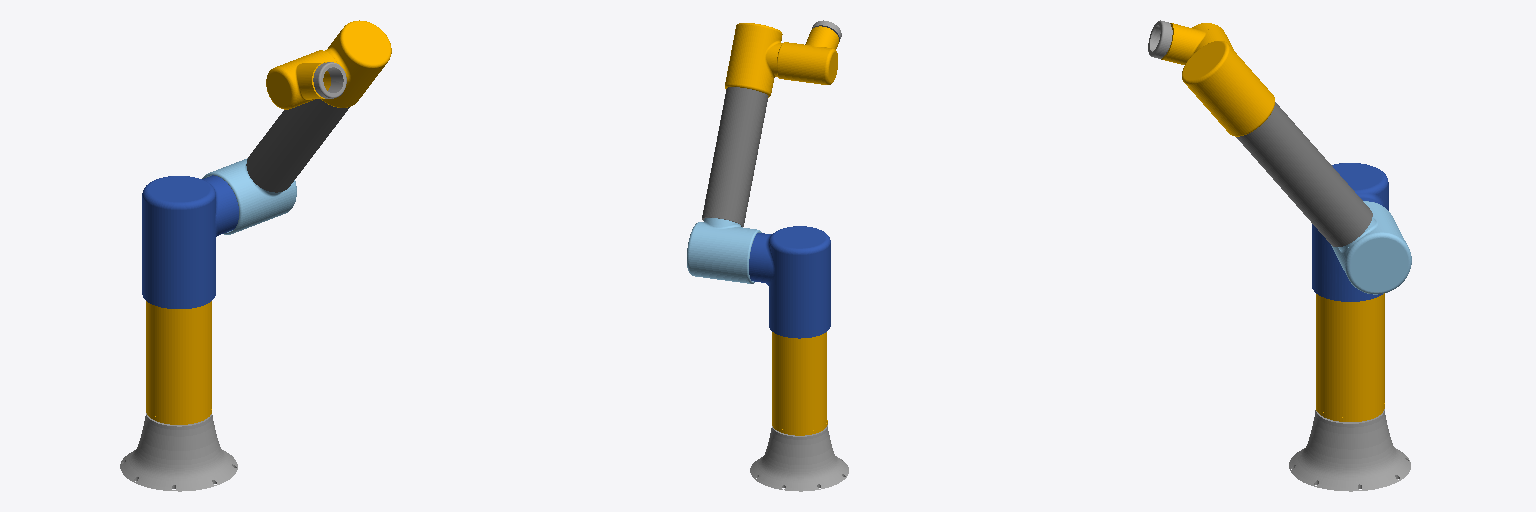
The robot description file, URDF, robot "Smart_Robots":
<robot name="Smart_Robots">
<link name="part_1">
<visual>
<origin xyz="-0.026505183829739500934 0.020985862326983767412 -0.0011190139842017013394" rpy="7.358325780984980669e-17 -1.668282557532609041e-15 0.21446911751457217732" />
<geometry>
<mesh filename="package://Smart_Robots/Smart_Robots/part_1.stl"/>
</geometry>
<material name="part_1_material">
<color rgba="0.64705882352941179736 0.64705882352941179736 0.64705882352941179736 1.0"/>
</material>
</visual>
<collision>
<origin xyz="-0.026505183829739500934 0.020985862326983767412 -0.0011190139842017013394" rpy="7.358325780984980669e-17 -1.668282557532609041e-15 0.21446911751457217732" />
<geometry>
<mesh filename="package://Smart_Robots/Smart_Robots/part_1.stl"/>
</geometry>
</collision>
<inertial>
<origin xyz="0 0 0" rpy="0 0 0"/>
<mass value="2556.34" />
<inertia ixx="0.356" ixy="0"  ixz="0" iyy="0.356" iyz="0" izz="0.356" />
</inertial>
</link>

<link name="assembly_1">
<visual>
<origin xyz="-0.00050800000000000150591 6.9388939039072283776e-18 0.053286000000000000032" rpy="3.141592653589793116 -0 -2.1144347211128180631e-17" />
<geometry>
<mesh filename="package://Smart_Robots/Smart_Robots/part_6.stl"/>
</geometry>
<material name="part_6_material">
<color rgba="0.2313725490196078538 0.38039215686274507888 0.7058823529411765163 1.0"/>
</material>
</visual>
<collision>
<origin xyz="-0.00050800000000000150591 6.9388939039072283776e-18 0.053286000000000000032" rpy="3.141592653589793116 -0 -2.1144347211128180631e-17" />
<geometry>
<mesh filename="package://Smart_Robots/Smart_Robots/part_6.stl"/>
</geometry>
</collision>
<visual>
<origin xyz="-3.4694469519536141888e-18 -3.4694469519536141888e-18 0.090623999999999996224" rpy="-3.141592653589793116 -0 -2.1144347211128180631e-17" />
<geometry>
<mesh filename="package://Smart_Robots/Smart_Robots/part_5.stl"/>
</geometry>
<material name="part_5_material">
<color rgba="0.98039215686274505668 0.71372549019607844922 0.0039215686274509803377 1.0"/>
</material>
</visual>
<collision>
<origin xyz="-3.4694469519536141888e-18 -3.4694469519536141888e-18 0.090623999999999996224" rpy="-3.141592653589793116 -0 -2.1144347211128180631e-17" />
<geometry>
<mesh filename="package://Smart_Robots/Smart_Robots/part_5.stl"/>
</geometry>
</collision>
<inertial>
<origin xyz="0 0 0" rpy="0 0 0"/>
<mass value="36.34" />
<inertia ixx="0.3456" ixy="0"  ixz="0" iyy="0.3445" iyz="0" izz="0.4567" />
</inertial>
</link>

<link name="assembly_1_2">
<visual>
<origin xyz="-1.3877787807814456755e-17 0.32484817418098399511 0.076221861471136576061" rpy="1.570796326794896558 1.570796326794896558 0" />
<geometry>
<mesh filename="package://Smart_Robots/Smart_Robots/part_7.stl"/>
</geometry>
<material name="part_7_material">
<color rgba="0.61568627450980395466 0.81176470588235294379 0.92941176470588238168 1.0"/>
</material>
</visual>
<collision>
<origin xyz="-1.3877787807814456755e-17 0.32484817418098399511 0.076221861471136576061" rpy="1.570796326794896558 1.570796326794896558 0" />
<geometry>
<mesh filename="package://Smart_Robots/Smart_Robots/part_7.stl"/>
</geometry>
</collision>
<visual>
<origin xyz="-0.29837389590963803165 -0.51482094345683804271 0.076221861471136242994" rpy="-1.5707963267948950037 1.570796326794896558 0" />
<geometry>
<mesh filename="package://Smart_Robots/Smart_Robots/part_8.stl"/>
</geometry>
<material name="part_8_material">
<color rgba="0.49803921568627451677 0.49803921568627451677 0.49803921568627451677 1.0"/>
</material>
</visual>
<collision>
<origin xyz="-0.29837389590963803165 -0.51482094345683804271 0.076221861471136242994" rpy="-1.5707963267948950037 1.570796326794896558 0" />
<geometry>
<mesh filename="package://Smart_Robots/Smart_Robots/part_8.stl"/>
</geometry>
</collision>
<visual>
<origin xyz="0.023781313250870836362 0.33994335485457938262 0.076221861471135965438" rpy="1.5707963267948983344 1.570796326794896558 0" />
<geometry>
<mesh filename="package://Smart_Robots/Smart_Robots/part_9.stl"/>
</geometry>
<material name="part_9_material">
<color rgba="0.98039215686274505668 0.71372549019607844922 0.0039215686274509803377 1.0"/>
</material>
</visual>
<collision>
<origin xyz="0.023781313250870836362 0.33994335485457938262 0.076221861471135965438" rpy="1.5707963267948983344 1.570796326794896558 0" />
<geometry>
<mesh filename="package://Smart_Robots/Smart_Robots/part_9.stl"/>
</geometry>
</collision>
<inertial>
<origin xyz="0 0 0" rpy="0 0 0"/>
<mass value="29.78" />
<inertia ixx="0.3674" ixy="0"  ixz="0" iyy="0.3458" iyz="0" izz="0.4789" />
</inertial>
</link>

<link name="part_10">
<visual>
<origin xyz="0.2839944415269319844 0.50605307554357992217 0.093350872256403177873" rpy="1.570796326794896558 1.570796326794896558 0" />
<geometry>
<mesh filename="package://Smart_Robots/Smart_Robots/part_10.stl"/>
</geometry>
<material name="part_10_material">
<color rgba="0.98039215686274505668 0.71372549019607844922 0.0039215686274509803377 1.0"/>
</material>
</visual>
<collision>
<origin xyz="0.2839944415269319844 0.50605307554357992217 0.093350872256403177873" rpy="1.570796326794896558 1.570796326794896558 0" />
<geometry>
<mesh filename="package://Smart_Robots/Smart_Robots/part_10.stl"/>
</geometry>
</collision>
<inertial>
<origin xyz="0 0 0" rpy="0 0 0"/>
<mass value="19.78" />
<inertia ixx="0.3674" ixy="0"  ixz="0" iyy="0.3458" iyz="0" izz="0.4789" />
</inertial>
</link>

<link name="part_11">
<visual>
<origin xyz="-0.041948340833187096333 0.50709062814712513312 0.33014797984504695716" rpy="1.570796326794896558 -4.4541348134564477247e-18 -3.034476982480160396e-18" />
<geometry>
<mesh filename="package://Smart_Robots/Smart_Robots/part_11.stl"/>
</geometry>
<material name="part_11_material">
<color rgba="0.64705882352941179736 0.64705882352941179736 0.64705882352941179736 1.0"/>
</material>
</visual>
<collision>
<origin xyz="-0.041948340833187096333 0.50709062814712513312 0.33014797984504695716" rpy="1.570796326794896558 -4.4541348134564477247e-18 -3.034476982480160396e-18" />
<geometry>
<mesh filename="package://Smart_Robots/Smart_Robots/part_11.stl"/>
</geometry>
</collision>
<inertial>
<origin xyz="0 0 0" rpy="0 0 0"/>
<mass value="17.78" />
<inertia ixx="0.3674" ixy="0"  ixz="0" iyy="0.3458" iyz="0" izz="0.4789" />
</inertial>
</link>

<joint name="hand" type="revolute">
<origin xyz="-0.048185538318115228584 -0.0010375526035452109497 0.051402531423216102358" rpy="-6.1719555739207486655e-17 1.5707963267948961139 0" />
<parent link="part_10" />
<child link="part_11" />
<axis xyz="0 0 1"/>
<limit effort="1" velocity="20" lower="0" upper="6.283185307179586232"/>
<joint_properties friction="0.0"/>
</joint>

<joint name="wrist" type="revolute">
<origin xyz="-0.2602131282760608566 -0.16610972068899942933 -0.019049999999999969735" rpy="1.0019538318562027426e-17 -3.8192177280355666212e-16 -1.8036734406152004268e-15" />
<parent link="assembly_1_2" />
<child link="part_10" />
<axis xyz="0 0 1"/>
<limit effort="1" velocity="20" lower="0" upper="4.712388980384689674"/>
<joint_properties friction="0.0"/>
</joint>

<joint name="shoulder" type="revolute">
<origin xyz="0.069109861471136596611 2.7755575615628913511e-17 -0.27156217418098405059" rpy="1.5707963267948972241 -0.35724126755982904546 -1.5707963267948970021" />
<parent link="assembly_1" />
<child link="assembly_1_2" />
<axis xyz="0 0 1"/>
<limit effort="1" velocity="20" lower="0" upper="4.712388980384689674"/>
<joint_properties friction="0.0"/>
</joint>

<joint name="base" type="revolute">
<origin xyz="-0.026487750574706647733 0.021001724336332686788 0.077620986015798310031" rpy="3.1415926535897926719 -2.2503819995540302376e-15 0.21446911751457184425" />
<parent link="part_1" />
<child link="assembly_1" />
<axis xyz="0 0 1"/>
<limit effort="1" velocity="20" lower="0" upper="6.283185307179586232"/>
<joint_properties friction="0.0"/>
</joint>


</robot>

--- Render facts (derived) ---
3 views of the same robot in one strip: view 1: azimuth 30°, elevation 25°; view 2: azimuth 150°, elevation 25°; view 3: azimuth 270°, elevation 25° (orthographic).
Robot: Smart_Robots — 5 links, 4 joints (4 revolute); root link part_1; default pose: all joints at 0.
Visible links, largest first — view 1: assembly_1, assembly_1_2, part_1, part_10, part_11; view 2: assembly_1, assembly_1_2, part_1, part_10; view 3: assembly_1_2, assembly_1, part_1, part_10, part_11.
Link boxes in pixels (x1,y1,x2,y2): assembly_1: (142, 175, 238, 424); assembly_1_2: (202, 20, 391, 234); part_1: (120, 413, 237, 491); part_10: (266, 50, 337, 109); part_11: (313, 62, 346, 98); assembly_1: (749, 226, 830, 435); assembly_1_2: (687, 23, 782, 283); part_1: (750, 425, 848, 491); part_10: (777, 26, 838, 84); assembly_1_2: (1182, 41, 1411, 294); assembly_1: (1312, 163, 1388, 421); part_1: (1289, 409, 1410, 491); part_10: (1161, 23, 1233, 64); part_11: (1148, 20, 1172, 58).
Bounding box of the posed robot: 0.2857 × 0.3252 × 0.6526 m (x, y, z).
Meshes: 8 distinct files referenced, 8 mesh visuals loaded (8 binary STL).